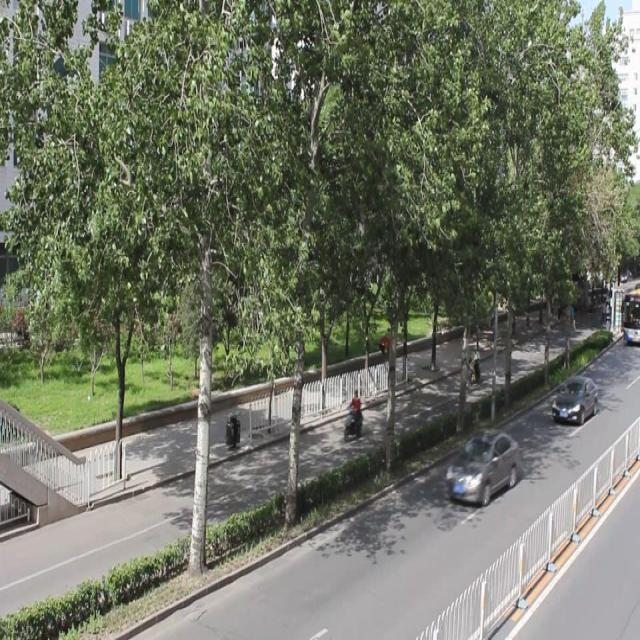car: (444, 426, 517, 504), (551, 374, 598, 425)
